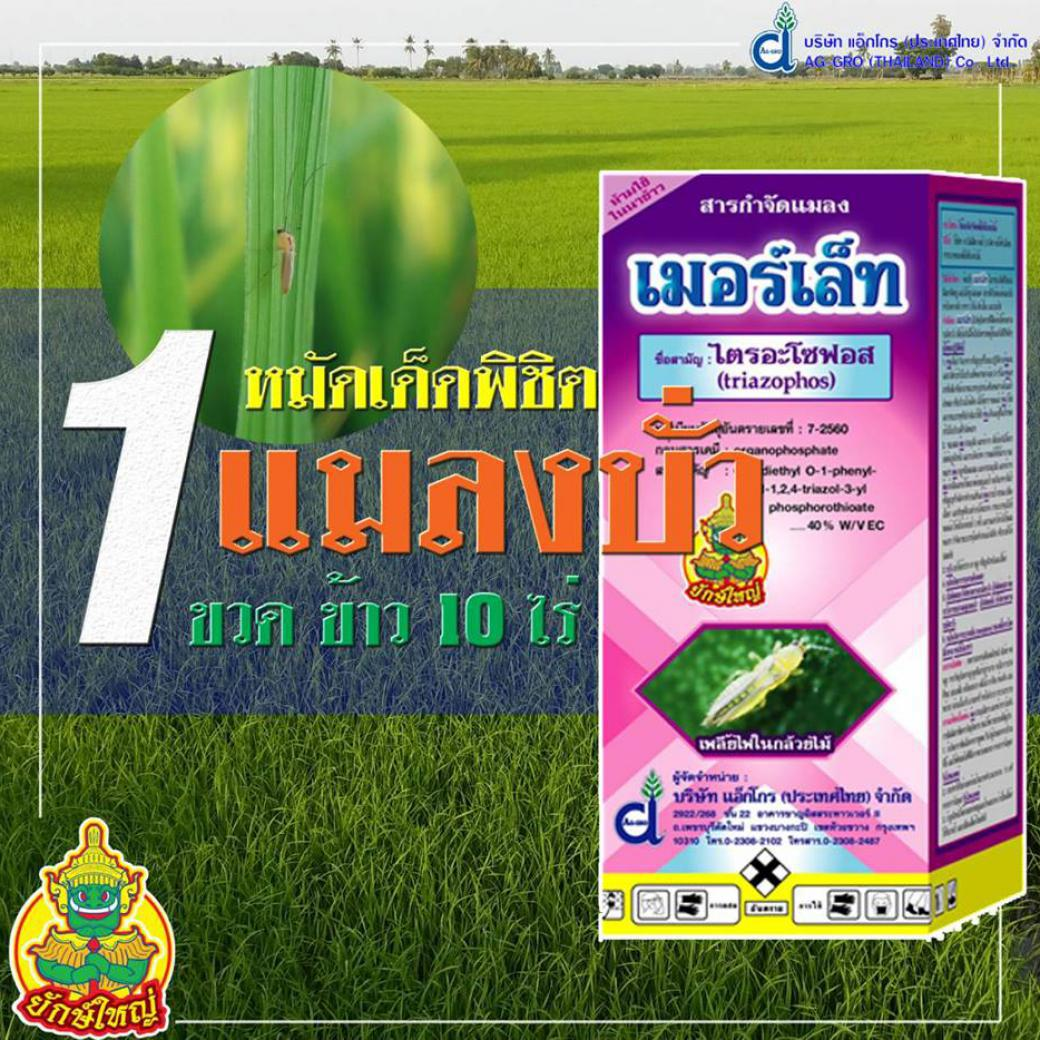Insecticide: (590, 159, 1040, 948)
